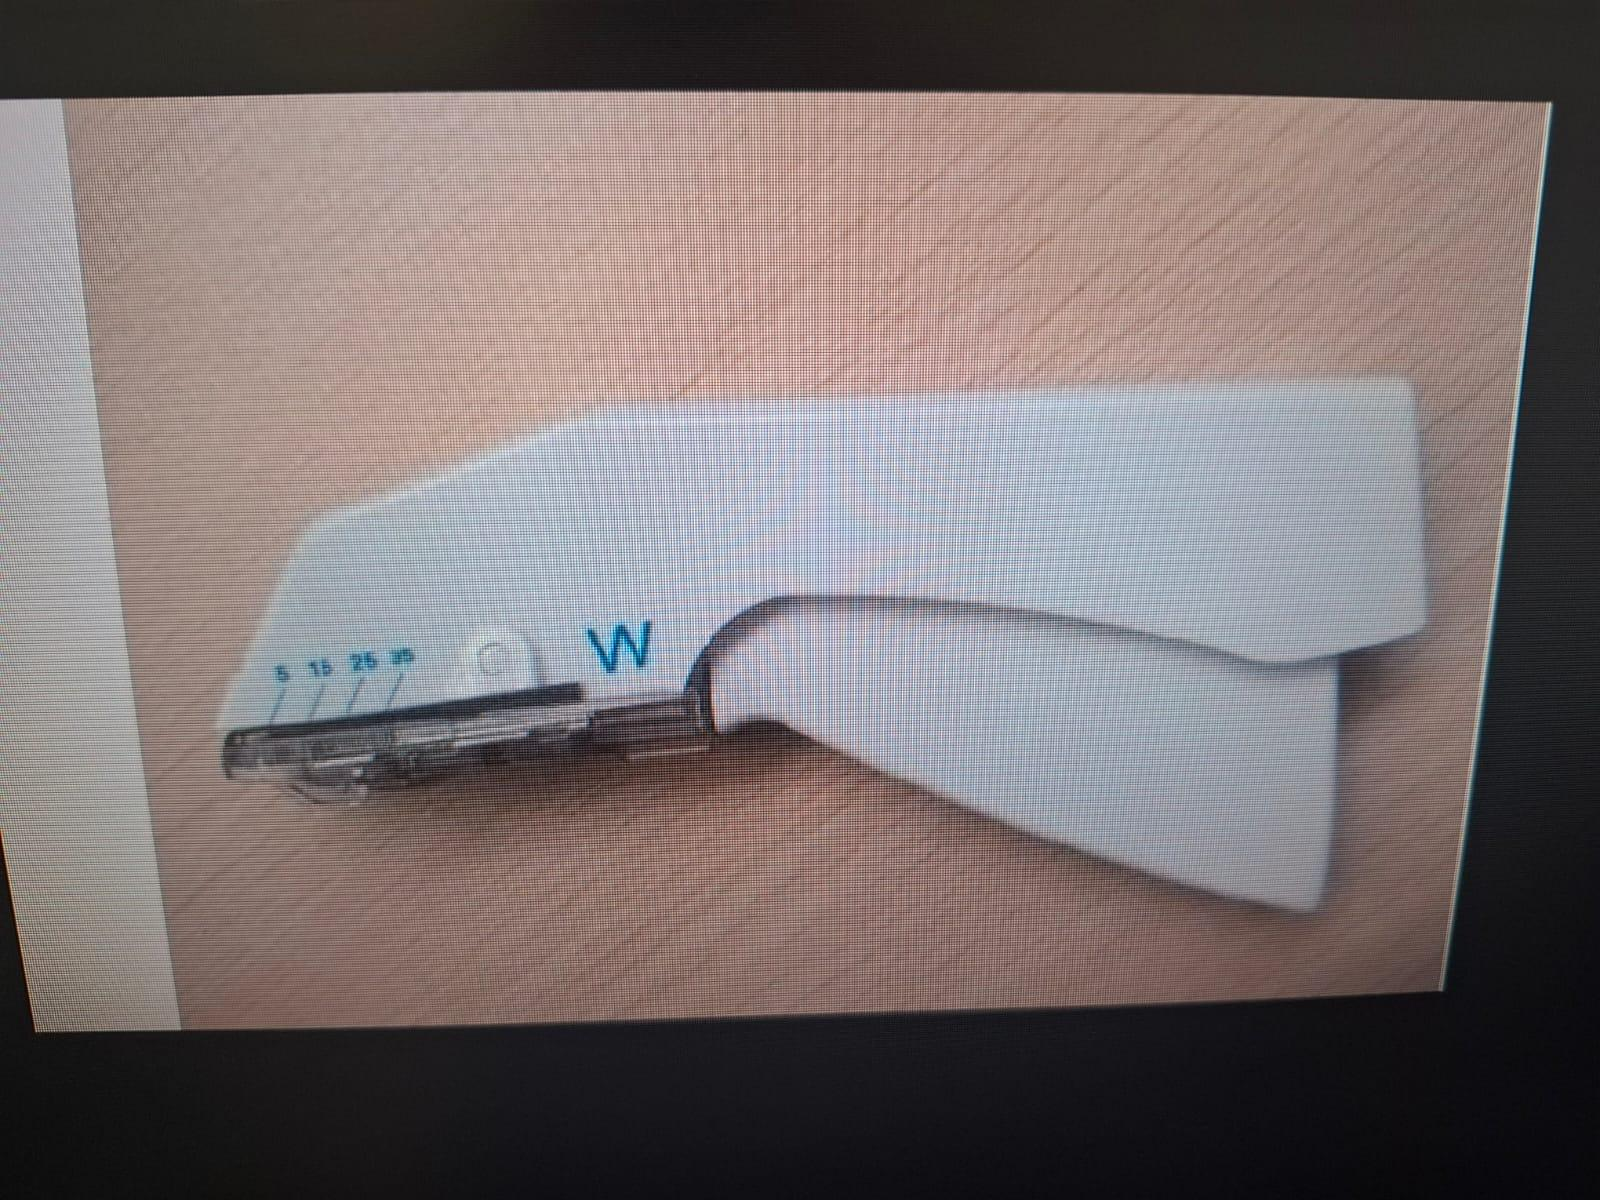Skin Stapler: (198, 362, 1472, 944)
